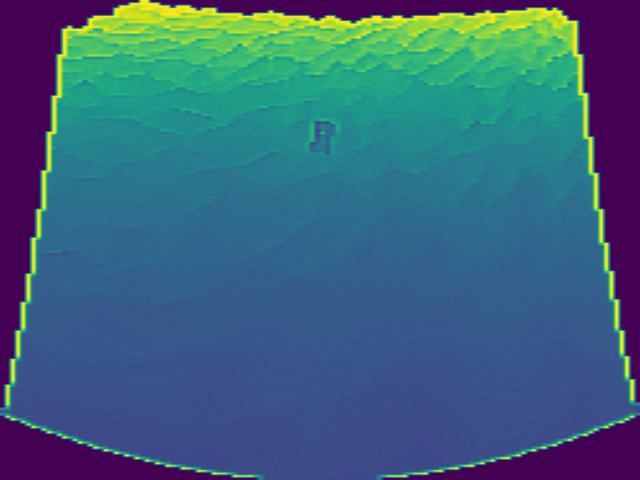car_0198: (310, 119, 337, 156)
